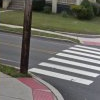crosswalk: (28, 44, 100, 86)
